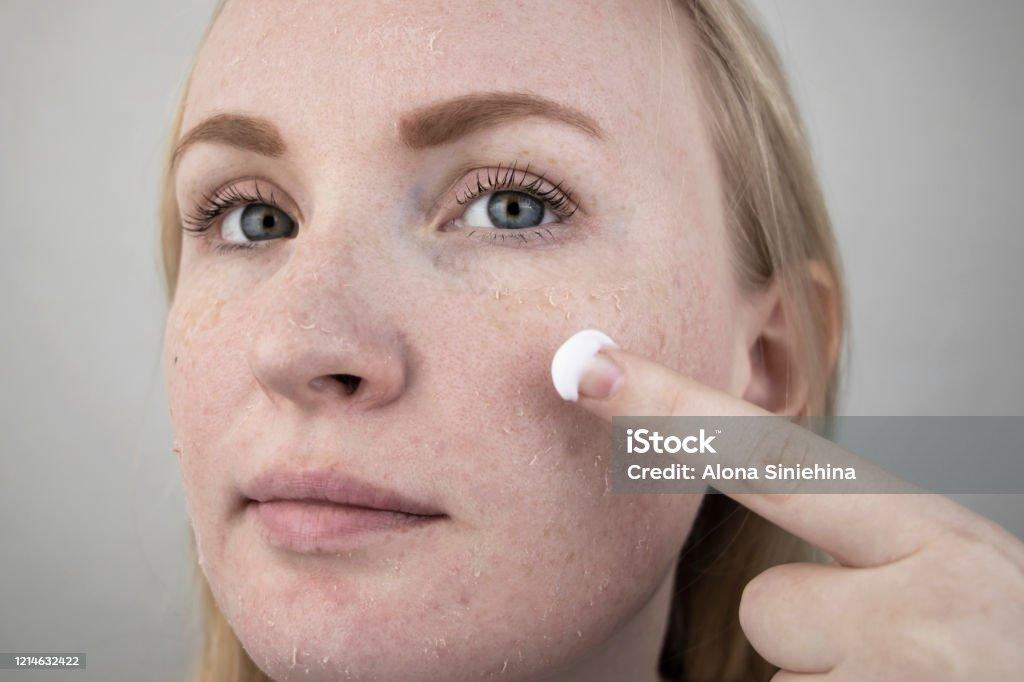Dry-Skin: (211, 536, 596, 682), (473, 383, 693, 562), (316, 3, 635, 95), (498, 263, 746, 359), (158, 266, 388, 359)
